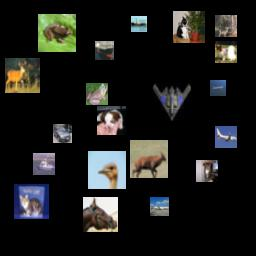airplane: (153, 83, 191, 121), (215, 126, 237, 148), (150, 197, 169, 216), (210, 80, 226, 96)
automobile: (53, 124, 72, 143)
bird: (88, 151, 126, 189)
cat: (14, 184, 49, 219), (173, 11, 205, 43), (196, 160, 218, 182)
deer: (130, 140, 168, 178), (5, 58, 40, 93), (215, 15, 237, 37)
dog: (97, 106, 126, 135), (215, 41, 237, 63)
frog: (38, 14, 76, 52), (86, 83, 108, 105)
ship: (33, 153, 55, 175), (95, 41, 114, 60), (131, 16, 147, 32)
